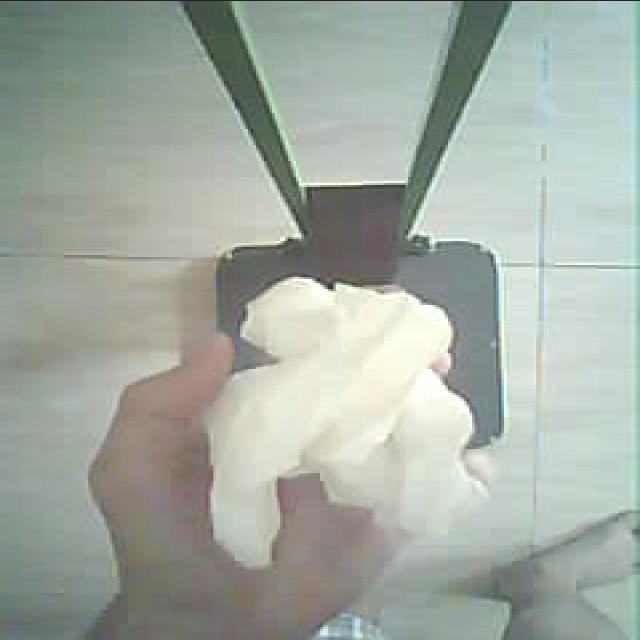Paper: (208, 269, 514, 569)
